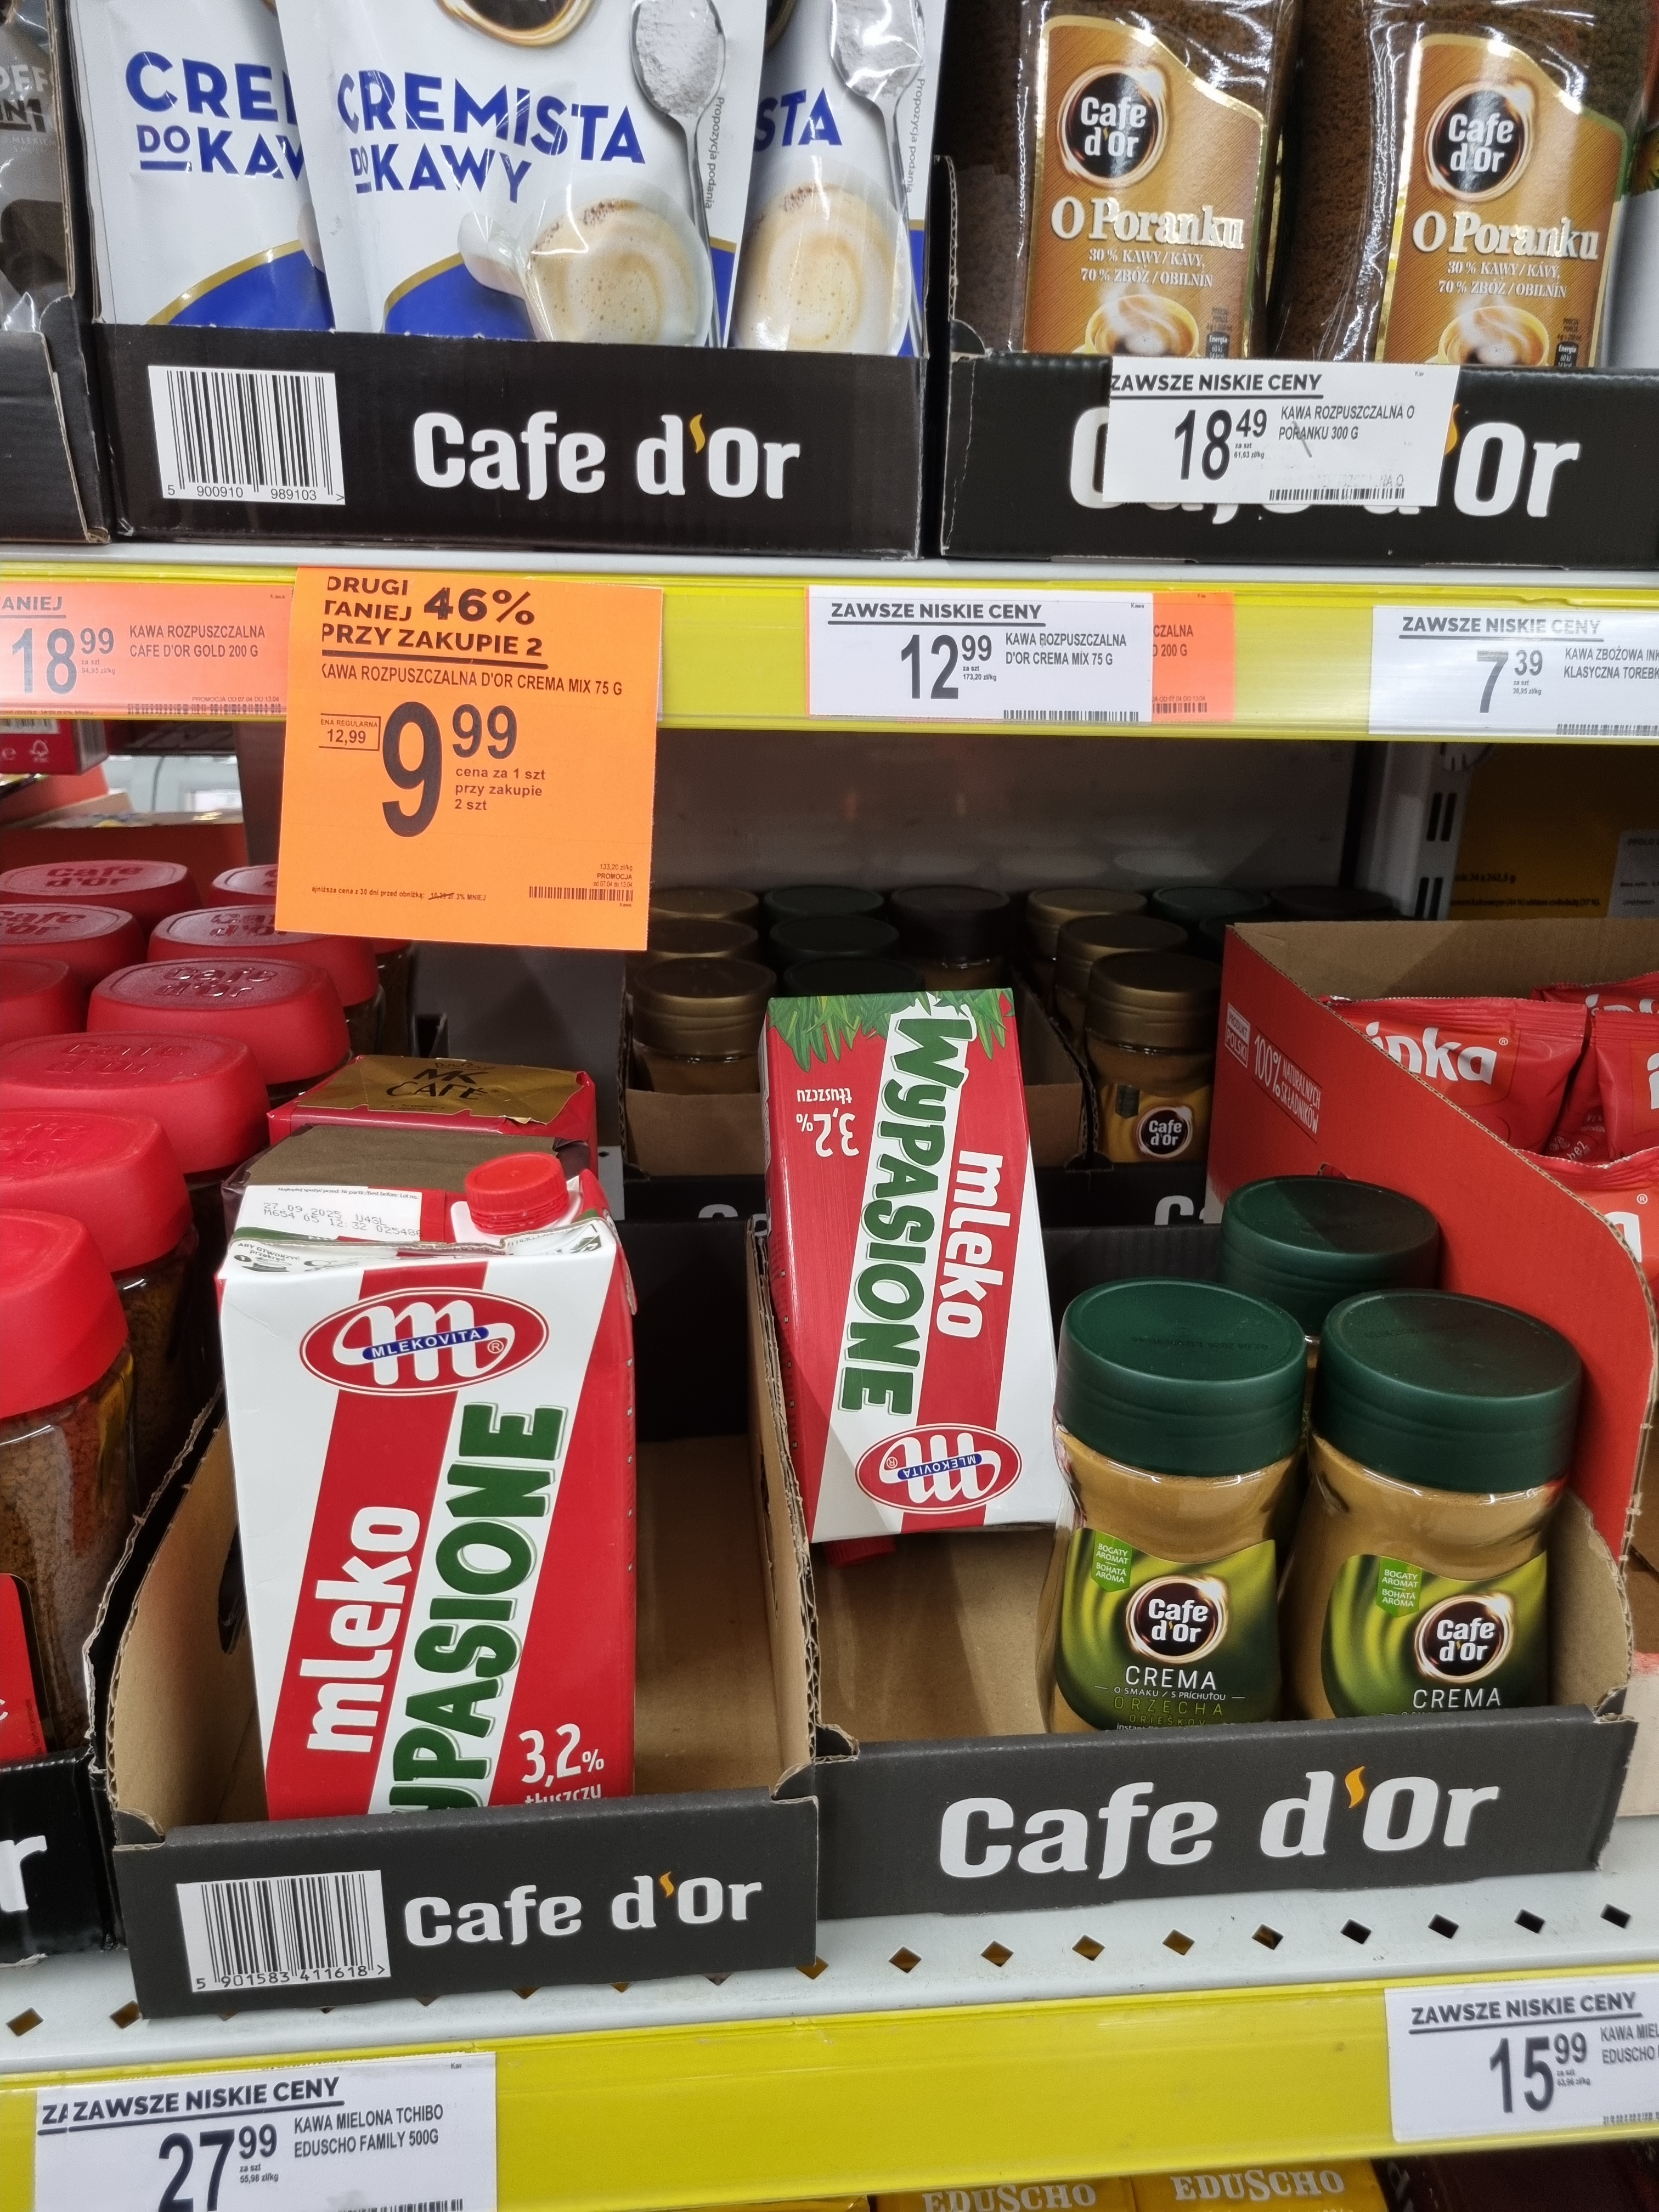Milk: (216, 1172, 638, 1827), (760, 982, 1075, 1541)
